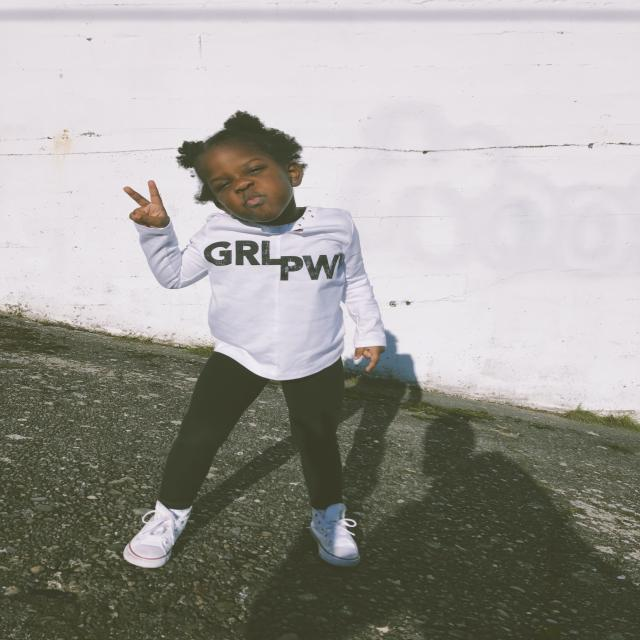child: (126, 118, 390, 580)
